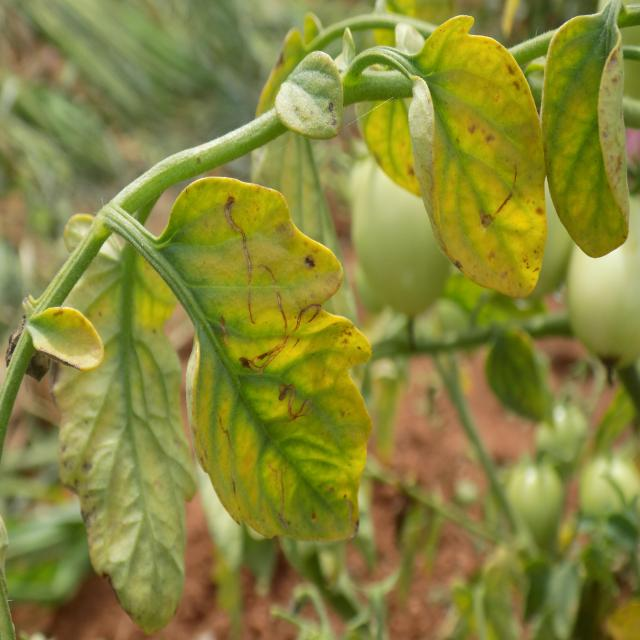tomato_early blight: (146, 170, 372, 546), (408, 10, 548, 299), (538, 3, 633, 270), (358, 68, 444, 198), (278, 50, 345, 145), (24, 308, 103, 369)
